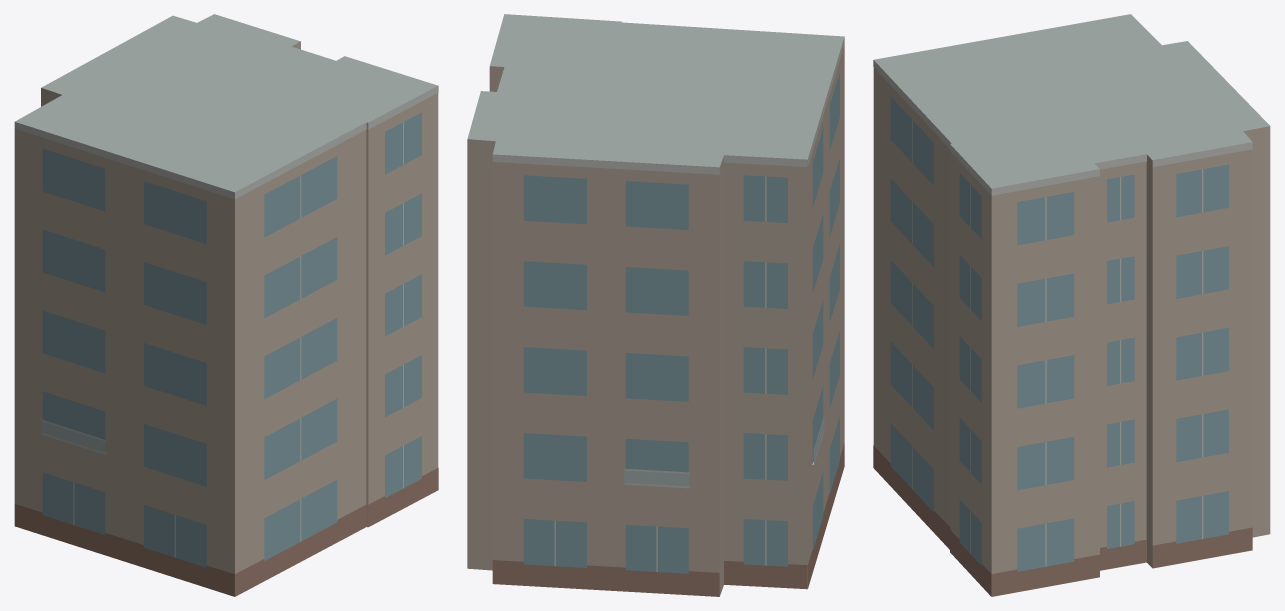
Rendered from survey-upis-32970879.glb.
3 renders of one model, left to right at view 1: azimuth 30°, elevation 25°; view 2: azimuth 150°, elevation 25°; view 3: azimuth 270°, elevation 25°, orthographic. The views are drawn at different scales.
Parts seen in each view (by area): view 1: survey-upis-32970879.tmp; view 2: survey-upis-32970879.tmp; view 3: survey-upis-32970879.tmp.
Part boxes in pixels (<box>): survey-upis-32970879.tmp: <box>14,14,438,596</box>; survey-upis-32970879.tmp: <box>467,14,844,596</box>; survey-upis-32970879.tmp: <box>873,14,1270,596</box>.
Size of the model in its own units: 12.95 by 14.1 by 12.44.
